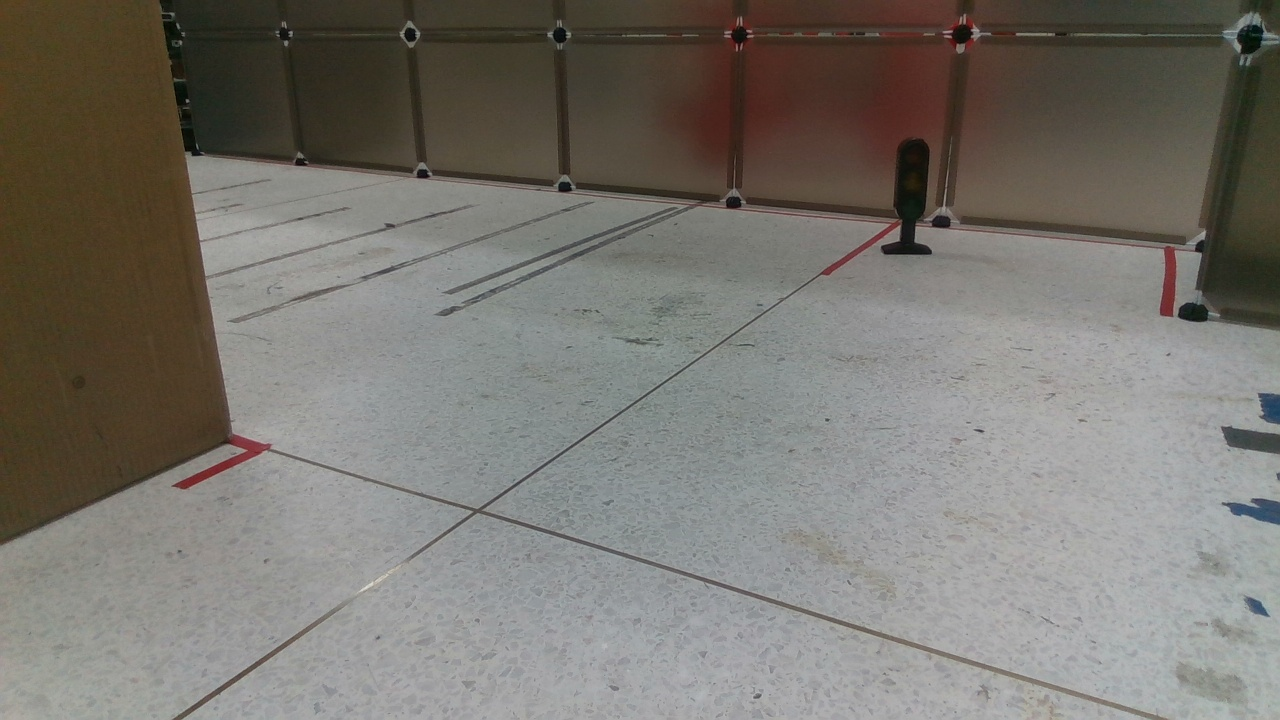Dim traffic light: (883, 136, 935, 260)
